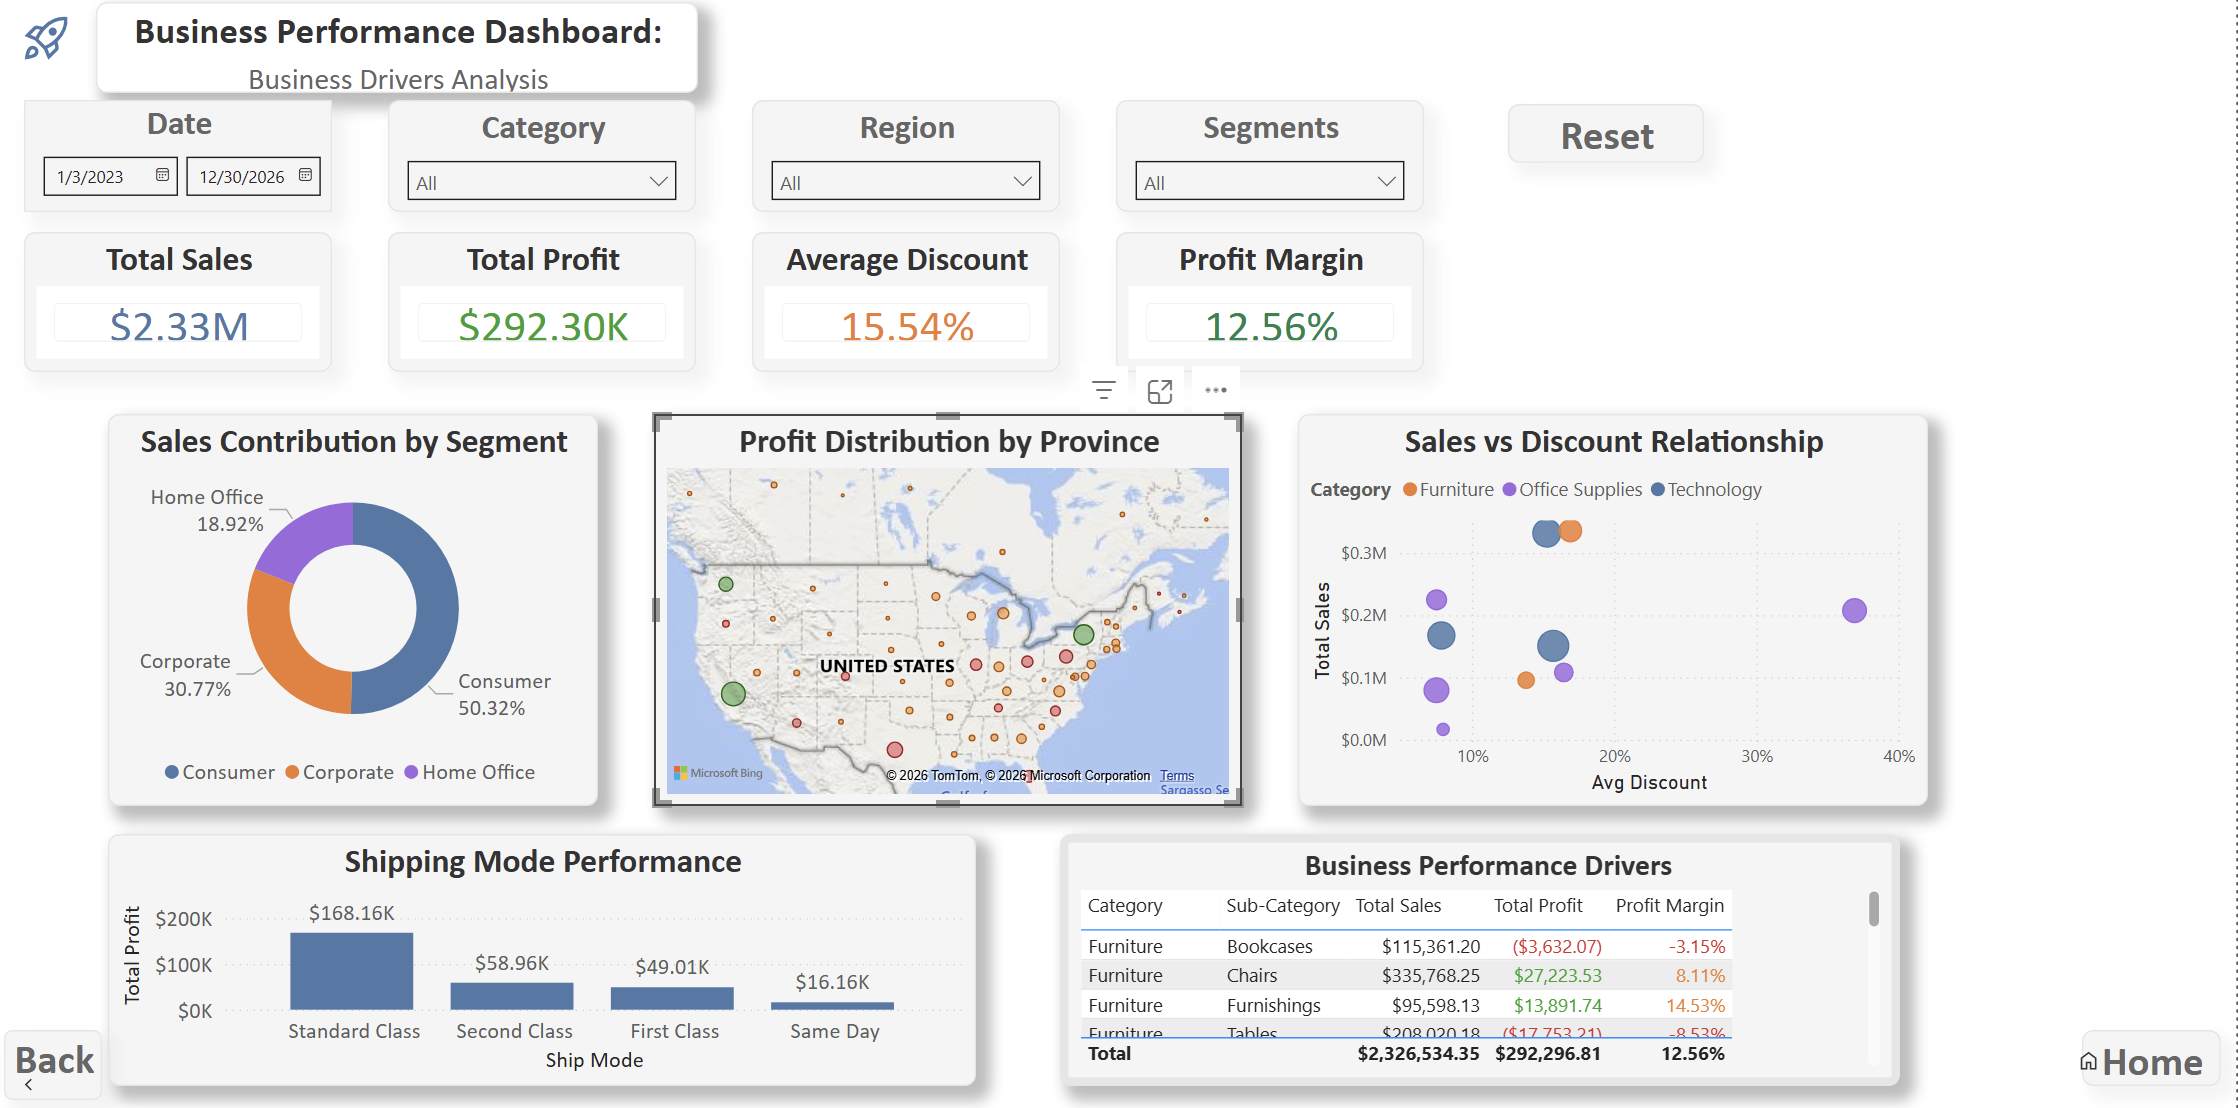

The dashboard page shown, as its layout file describes it:
{"tool":"powerbi","page":{"name":"Business Drivers Analysis","canvas":[1600,800],"ordinal":3},"visuals":[{"type":"scatterChart","title":"Sales vs Discount Relationship","fields":{"X":["samplesuperstore.Avg Discount"],"Size":["samplesuperstore.Total Profit"],"Y":["samplesuperstore.Total Sales"],"Category":["samplesuperstore.Sub-Category"],"Series":["samplesuperstore.Category"]},"box":[930,300,450,280],"z":0},{"type":"clusteredColumnChart","title":"Shipping Mode Performance","fields":{"Y":["samplesuperstore.Total Profit"],"Category":["samplesuperstore.Ship Mode"]},"box":[80,600,620,180],"z":1000},{"type":"donutChart","title":"Sales Contribution by Segment","fields":{"Category":["samplesuperstore.Segment"],"Y":["samplesuperstore.Total Sales"]},"box":[80,300,350,280],"z":2000},{"type":"map","title":"Profit Distribution by Province","fields":{"Category":["samplesuperstore.State/Province"],"Size":["samplesuperstore.Total Sales"]},"box":[470,300,420,280],"z":3000},{"type":"textbox","title":"Business Performance Dashboard:","box":[72,5,430,65],"z":4000},{"type":"slicer","title":"Date","fields":{"Values":["samplesuperstore.Order Date"]},"box":[20,75,220,80],"z":5000},{"type":"slicer","title":"Category","fields":{"Values":["samplesuperstore.Category"]},"box":[280,75,220,80],"z":6000},{"type":"slicer","title":"Region","fields":{"Values":["samplesuperstore.Region"]},"box":[540,75,220,80],"z":7000},{"type":"slicer","title":"Segments","fields":{"Values":["samplesuperstore.Segment"]},"box":[800,75,220,80],"z":8000},{"type":"cardVisual","title":"Total Sales","fields":{"Data":["samplesuperstore.Total Sales"]},"box":[20,170,220,100],"z":9000},{"type":"cardVisual","title":"Total Profit","fields":{"Data":["samplesuperstore.Total Profit"]},"box":[280,170,220,100],"z":10000},{"type":"cardVisual","title":"Average Discount","fields":{"Data":["samplesuperstore.Avg Discount"]},"box":[540,170,220,100],"z":11000},{"type":"cardVisual","title":"Profit Margin","fields":{"Data":["samplesuperstore.Profit Margin"]},"box":[800,170,220,100],"z":12000},{"type":"tableEx","title":"Business Performance Drivers","fields":{"Values":["samplesuperstore.Category","samplesuperstore.Sub-Category","samplesuperstore.Total Sales","samplesuperstore.Total Profit","samplesuperstore.Profit Margin"]},"box":[760,600,600,180],"z":13000},{"type":"actionButton","title":"Back","box":[5,740,70,50],"z":14000},{"type":"actionButton","title":"Home","box":[1490,740,99,40],"z":15000},{"type":"actionButton","title":"Reset","box":[1080,78,140,42],"z":16000},{"type":"image","box":[15,12,40,40],"z":17000},{"type":"image","box":[1486,753,18,18],"z":18000},{"type":"image","box":[14,770,18,18],"z":19000}]}

Visuals, with their boxes in screenshot pixels (x1, y1, x2, y2), scaled from the page's 1600x800 canvas onto the 2238x1108 screenshot:
"Sales vs Discount Relationship" scatterChart: <region>1301, 416, 1930, 803</region>
"Shipping Mode Performance" clusteredColumnChart: <region>112, 831, 979, 1080</region>
"Sales Contribution by Segment" donutChart: <region>112, 416, 601, 803</region>
"Profit Distribution by Province" map: <region>657, 416, 1245, 803</region>
"Business Performance Dashboard:" textbox: <region>101, 7, 702, 97</region>
"Date" slicer: <region>28, 104, 336, 215</region>
"Category" slicer: <region>392, 104, 699, 215</region>
"Region" slicer: <region>755, 104, 1063, 215</region>
"Segments" slicer: <region>1119, 104, 1427, 215</region>
"Total Sales" cardVisual: <region>28, 235, 336, 374</region>
"Total Profit" cardVisual: <region>392, 235, 699, 374</region>
"Average Discount" cardVisual: <region>755, 235, 1063, 374</region>
"Profit Margin" cardVisual: <region>1119, 235, 1427, 374</region>
"Business Performance Drivers" tableEx: <region>1063, 831, 1902, 1080</region>
"Back" actionButton: <region>7, 1025, 105, 1094</region>
"Home" actionButton: <region>2084, 1025, 2223, 1080</region>
"Reset" actionButton: <region>1511, 108, 1706, 166</region>
image: <region>21, 17, 77, 72</region>
image: <region>2079, 1043, 2104, 1068</region>
image: <region>20, 1066, 45, 1091</region>
